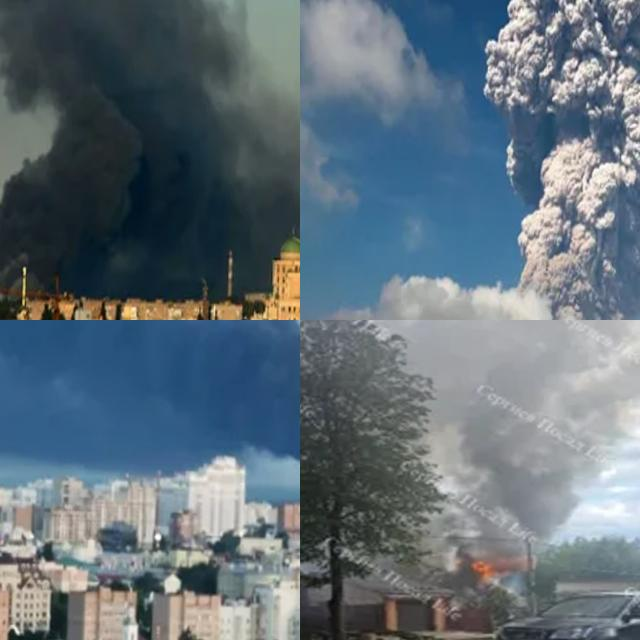smoke: (0, 0, 300, 302), (0, 320, 300, 517), (475, 0, 640, 320), (433, 320, 619, 572)
